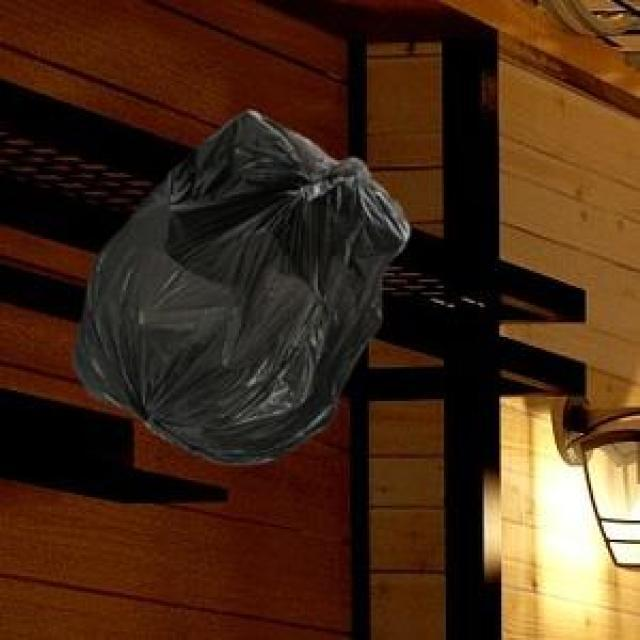miscellaneous trash: (68, 107, 405, 461)
